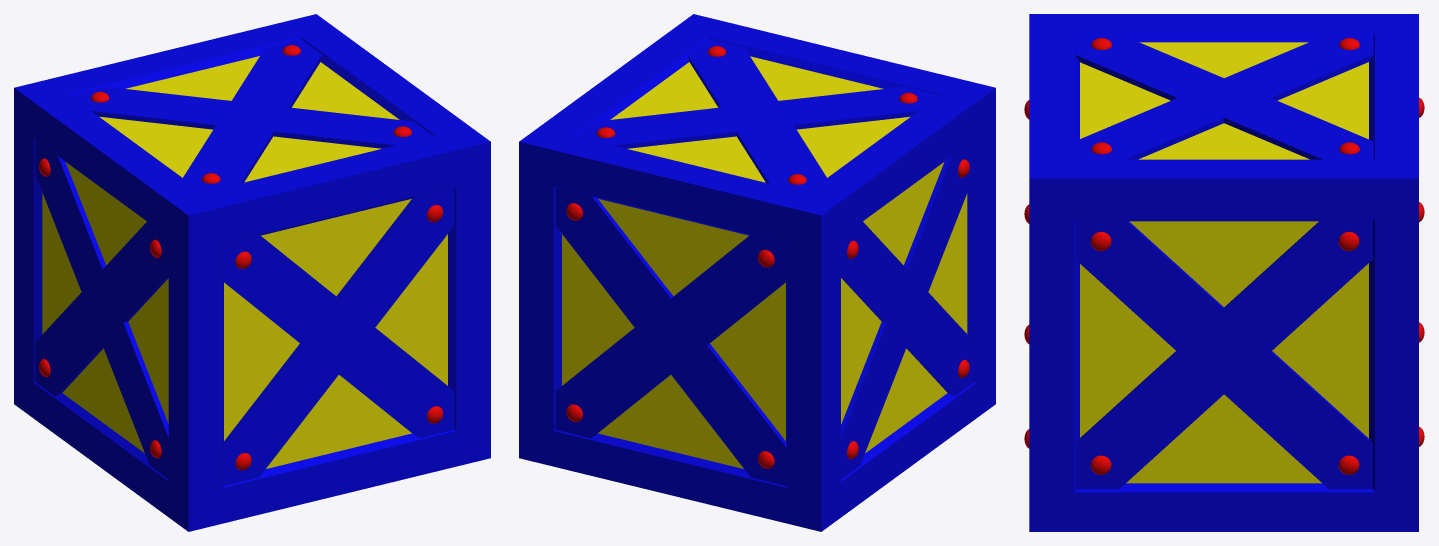
Rendered from woodbox.fbx.
The picture shows the model from 3 angles, left to right: view 1: azimuth 30°, elevation 25°; view 2: azimuth 150°, elevation 25°; view 3: azimuth 270°, elevation 25°; orthographic projection. The views are drawn at different scales.
Parts seen in each view (by area): view 1: polySurface15, polySurface21, polySurface11, polySurface12, polySurface1, polySurface9, polySurface8, polySurface2, pasted__pasted__pasted__group6_pasted__pasted__pasted__paste; view 2: polySurface15, polySurface21, polySurface13, polySurface14, polySurface2, polySurface8, polySurface9, polySurface1, pasted__pasted__pasted__group6_pasted__pasted__pasted__paste; view 3: polySurface15, polySurface21, polySurface7, polySurface6, polySurface1, polySurface2, pasted__pasted__pasted__group6_pasted__pasted__pasted__paste.
Part boxes in pixels (<box>): polySurface15: <box>14,14,490,531</box>; polySurface21: <box>42,56,447,468</box>; polySurface11: <box>223,235,454,438</box>; polySurface12: <box>223,187,454,485</box>; polySurface1: <box>70,86,432,148</box>; polySurface9: <box>35,140,168,478</box>; polySurface8: <box>35,221,168,396</box>; polySurface2: <box>183,39,321,192</box>; pasted__pasted__pasted__group6_pasted__pasted__pasted__paste: <box>39,45,443,470</box>; polySurface15: <box>519,14,995,531</box>; polySurface21: <box>562,56,967,468</box>; polySurface13: <box>555,235,786,438</box>; polySurface14: <box>555,187,786,485</box>; polySurface2: <box>576,86,939,148</box>; polySurface8: <box>841,140,974,479</box>; polySurface9: <box>841,221,974,396</box>; polySurface1: <box>688,39,826,192</box>; pasted__pasted__pasted__group6_pasted__pasted__pasted__paste: <box>566,46,969,468</box>; polySurface15: <box>1029,14,1418,531</box>; polySurface21: <box>1080,42,1368,483</box>; polySurface7: <box>1076,220,1372,489</box>; polySurface6: <box>1076,220,1372,489</box>; polySurface1: <box>1075,34,1373,159</box>; polySurface2: <box>1075,34,1373,159</box>; pasted__pasted__pasted__group6_pasted__pasted__pasted__paste: <box>1024,38,1424,474</box>.
Size of the model in its own units: 74.82 by 74.77 by 74.85.
